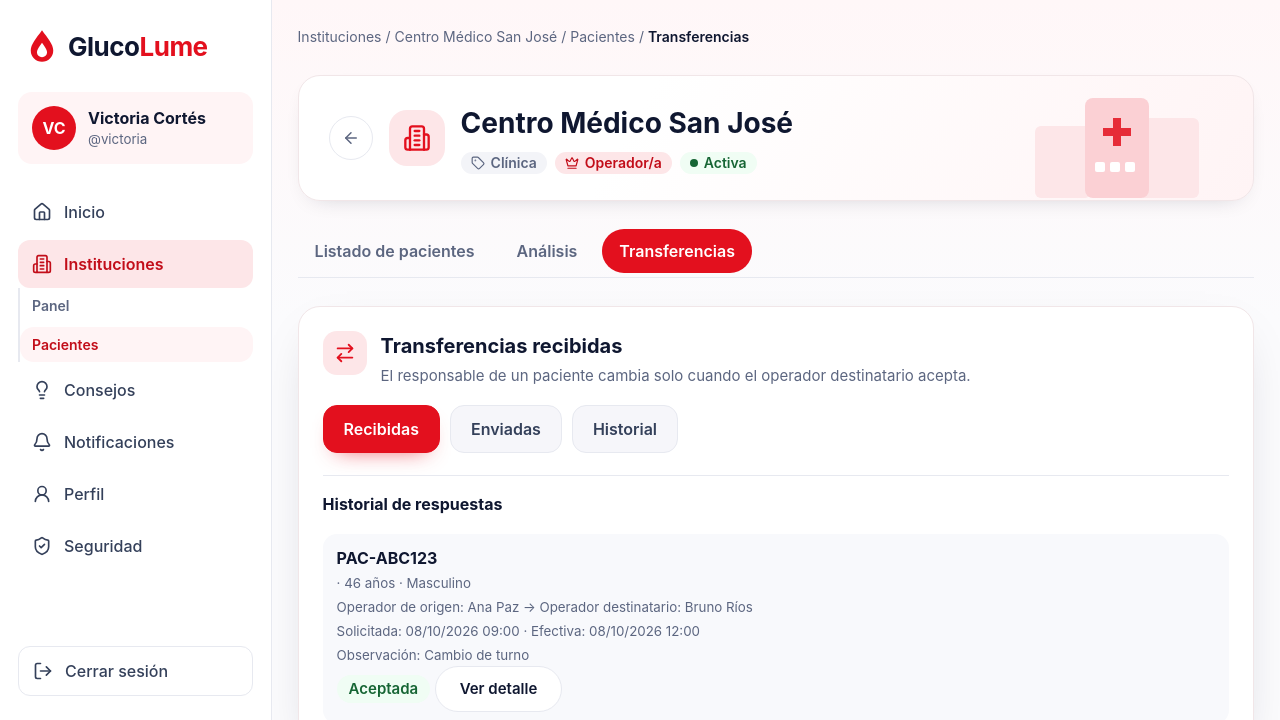
Test: Detalle de una transferencia › abre en su propia página con origen, destino, historial y los UUID solo en detalles técnicos
This screenshot has width=1280, height=720.
Click the link with aria-label "Ver detalle de la transferencia de PAC-ABC123". click: coordinates (498, 689)
box: [435, 666, 562, 712]
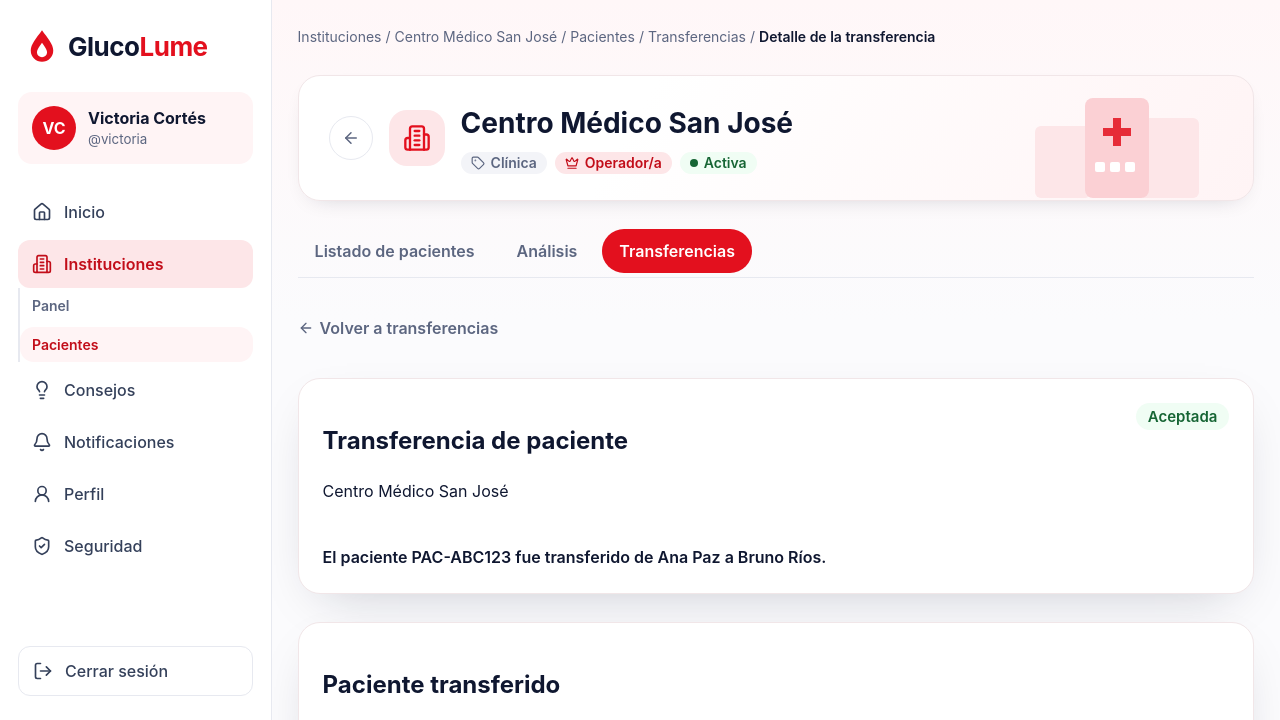
Check: the element "Transferencia de paciente" does not show "tid-uuid-1", box [298, 378, 1254, 594]
Check: the text "El paciente PAC-ABC123 fue transferido de Ana Paz a Bruno Ríos." is shown, box [323, 547, 826, 567]
Click the link "Volver a transferencias". click: coordinates (398, 328)
box: [298, 318, 498, 338]
(page scrolled)
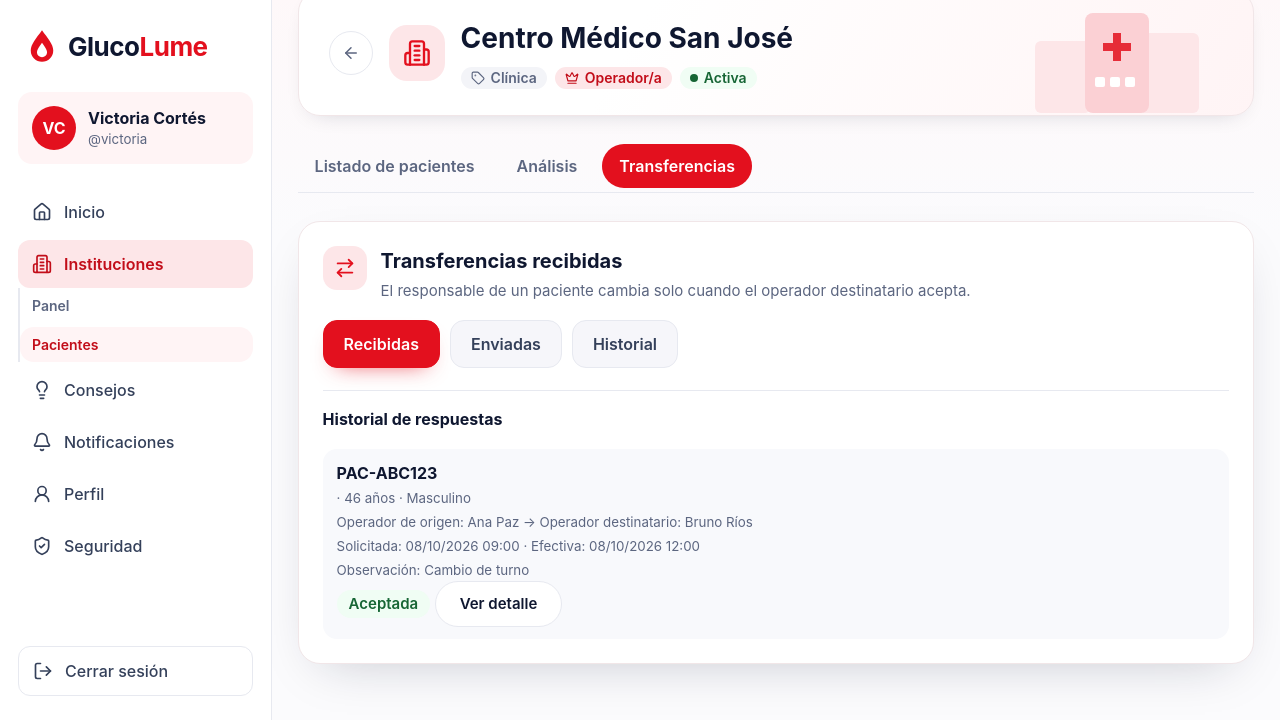
Check: the list named "Transferencias respondidas" is shown, box [323, 449, 1229, 639]
